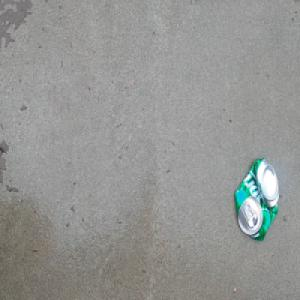SodaCan: (232, 155, 281, 243)
